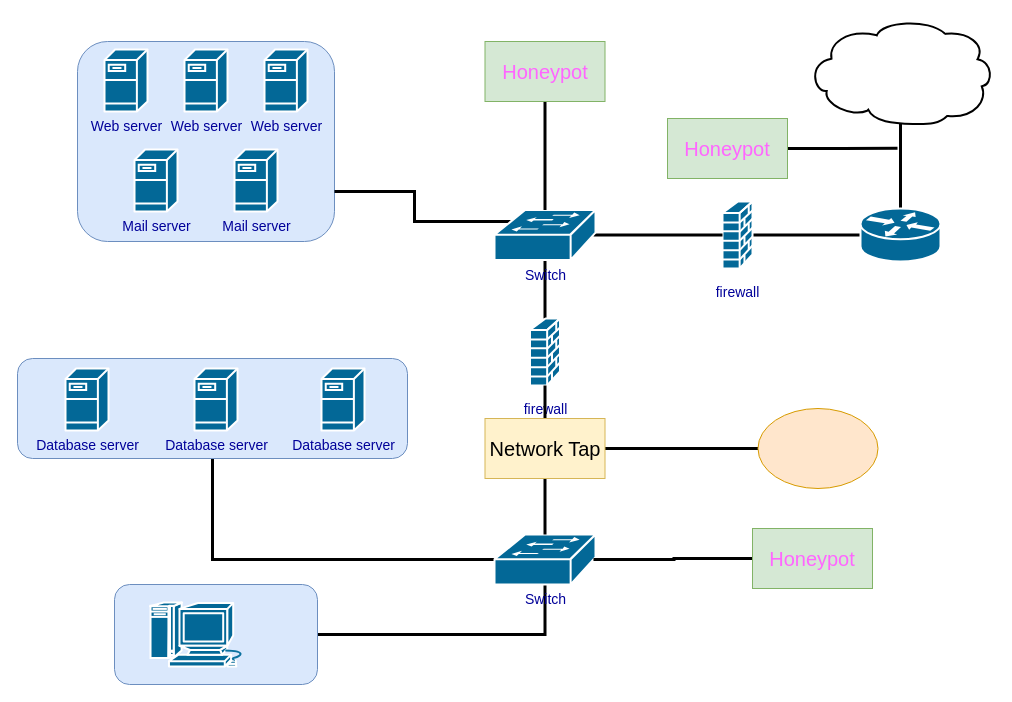
Image size: 1012x702. Some labels were removed from this diagram. The shapes that lost their labels are listed below. From the top down, each one's centre as x and y in pixels, then its label:
the point at 900,71: Internet
the point at 817,448: Network Analyzer
the point at 199,634: PC x 40
